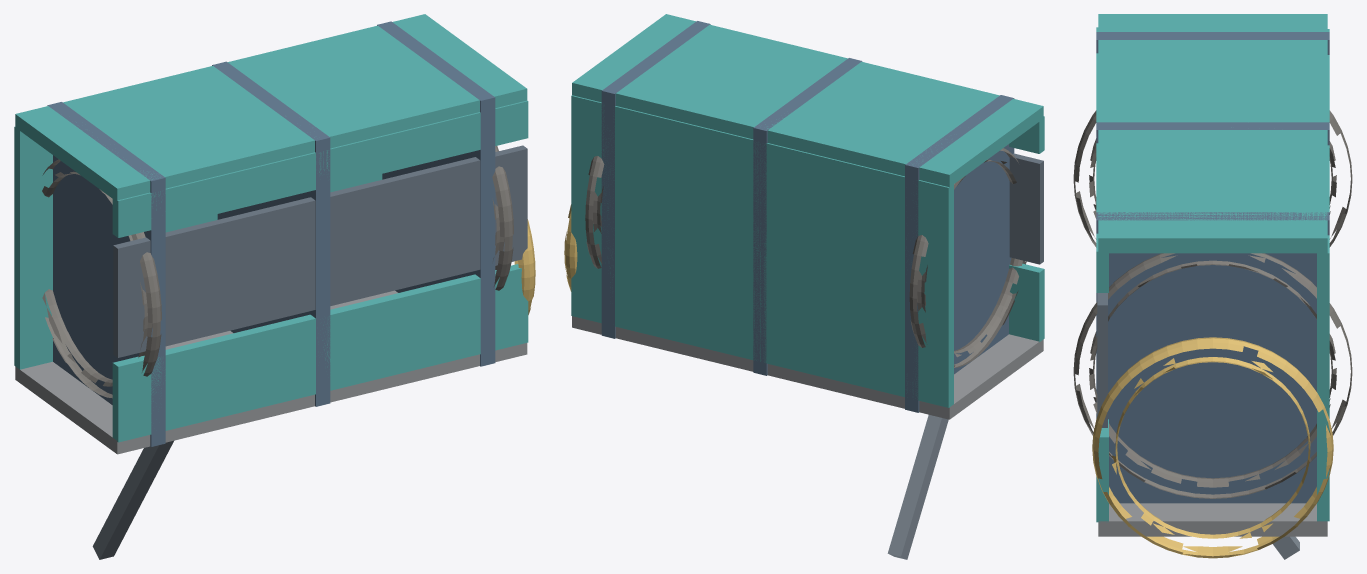
The model's file is boarding-corridor-lod1.glb.
3 views of the same model, side by side, from view 1: azimuth 30°, elevation 25°; view 2: azimuth 150°, elevation 25°; view 3: azimuth 270°, elevation 25° (orthographic). The views are drawn at different scales.
Visible parts, largest first — view 1: Ceiling, WallFrontGlass, WallFrontLow, Rib, WallFrontTop, WallBack, Floor, Rib.002, Rib.001, Bellows.001, Strut, Bellows (+1 smaller); view 2: WallBack, Ceiling, Rib, Floor, Rib.001, Rib.002, WallFrontGlass, Bellows.001, Strut, WallFrontLow, Bellows, WallFrontTop (+1 smaller); view 3: Ceiling, Rib.002, DockRing, Bellows, Floor, WallBack, Bellows.001, Rib.001, Rib, WallFrontGlass, WallFrontLow, WallFrontTop (+1 smaller).
Part boxes in pixels (box(x1,y1,x2,y2)): Ceiling: box(15, 14, 527, 201); WallFrontGlass: box(113, 145, 527, 357); WallFrontLow: box(112, 264, 528, 442); Rib: box(47, 102, 165, 446); WallFrontTop: box(112, 100, 528, 237); WallBack: box(14, 126, 382, 369); Floor: box(15, 290, 527, 454); Rib.002: box(377, 21, 495, 366); Rib.001: box(212, 61, 330, 406); Bellows.001: box(42, 159, 161, 398); Strut: box(92, 440, 173, 559); Bellows: box(492, 146, 513, 290); WallBack: box(571, 95, 953, 407); Ceiling: box(572, 14, 1043, 187); Rib: box(905, 95, 1014, 412); Floor: box(572, 316, 1043, 419); Rib.001: box(753, 58, 862, 375); Rib.002: box(601, 21, 710, 338); WallFrontGlass: box(1009, 153, 1043, 264); Bellows.001: box(909, 148, 1026, 367); Strut: box(887, 415, 948, 559); WallFrontLow: box(1009, 263, 1044, 342); Bellows: box(585, 156, 604, 268); WallFrontTop: box(1009, 116, 1044, 153); Ceiling: box(1098, 14, 1327, 253); Rib.002: box(1096, 212, 1329, 503); DockRing: box(1092, 337, 1333, 558); Bellows: box(1073, 253, 1352, 498); Floor: box(1098, 503, 1327, 536); WallBack: box(1317, 29, 1329, 521); Bellows.001: box(1073, 110, 1352, 247); Rib.001: box(1096, 122, 1329, 145); Rib: box(1096, 32, 1329, 54); WallFrontGlass: box(1097, 293, 1107, 427); WallFrontLow: box(1096, 419, 1108, 522); WallFrontTop: box(1096, 27, 1108, 292).
Size of the model in its own units: 2.6 by 2.66 by 1.34.
